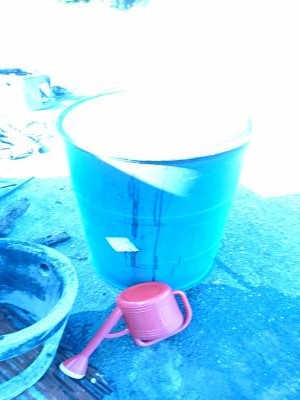bowl: (113, 280, 195, 351)
bucket: (54, 84, 251, 294)
